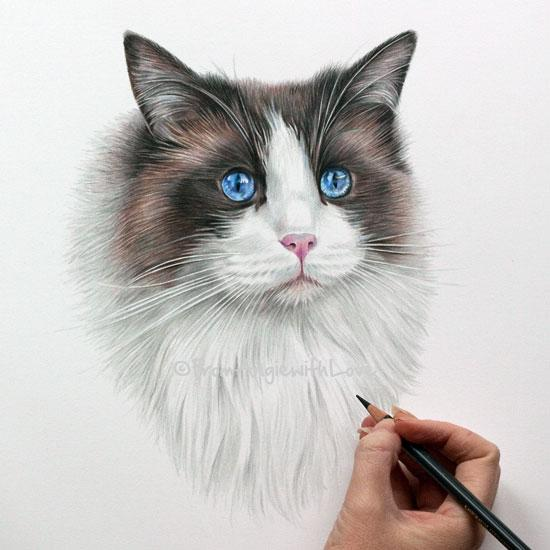ragdoll: (109, 19, 435, 322)
